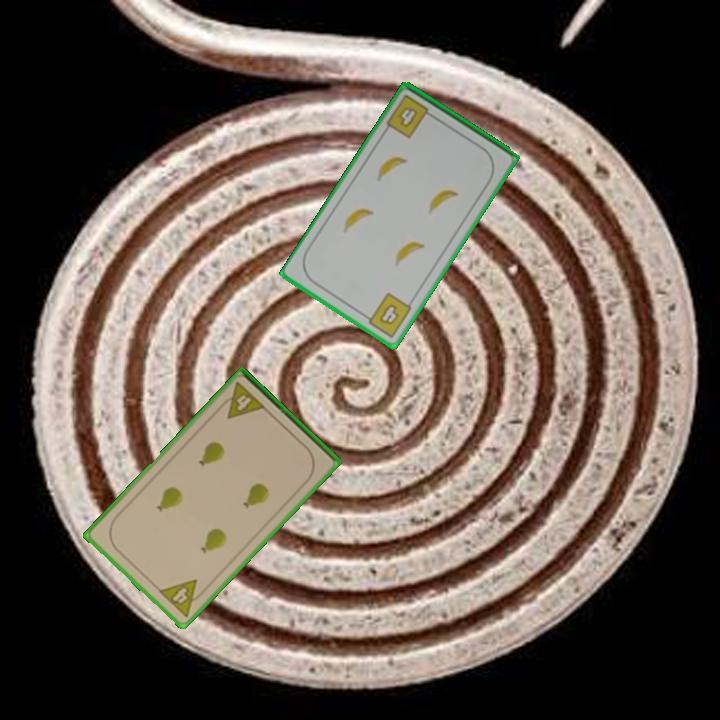4b: (360, 289, 415, 341), (382, 91, 438, 141)
4p: (155, 576, 209, 620), (215, 378, 268, 422)
